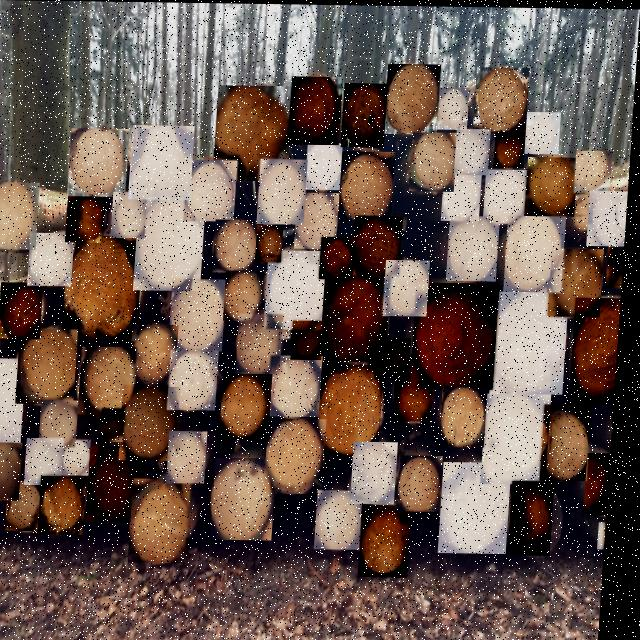wood-log: (415, 281, 504, 388), (66, 235, 147, 341), (495, 290, 573, 393), (215, 85, 295, 181), (316, 363, 389, 456), (137, 197, 209, 291), (445, 460, 518, 552), (487, 392, 557, 483), (324, 274, 395, 361), (136, 478, 201, 563), (574, 296, 625, 402), (218, 457, 283, 540), (268, 249, 330, 329), (131, 125, 197, 199), (507, 214, 569, 291), (270, 417, 332, 493), (21, 328, 83, 404), (93, 445, 153, 522), (125, 386, 186, 460), (70, 128, 131, 197), (173, 278, 230, 351), (83, 347, 142, 417), (385, 63, 442, 133), (341, 150, 397, 221), (546, 403, 597, 479), (366, 504, 419, 576), (474, 66, 531, 132), (552, 247, 607, 315), (290, 75, 344, 144), (450, 214, 503, 280), (226, 373, 278, 440), (272, 354, 328, 416), (515, 479, 561, 554), (259, 158, 310, 224), (187, 159, 240, 221), (528, 155, 581, 215), (173, 349, 224, 410), (355, 215, 406, 275), (343, 82, 389, 147), (445, 384, 493, 446), (357, 440, 404, 503), (134, 324, 183, 384), (322, 489, 370, 549), (241, 313, 288, 374), (0, 182, 42, 250), (411, 131, 459, 190), (45, 476, 93, 534), (0, 358, 31, 445), (387, 259, 434, 315), (403, 454, 449, 511), (2, 282, 47, 339), (297, 192, 342, 248), (31, 233, 78, 286), (486, 168, 531, 222), (216, 219, 261, 272), (590, 189, 630, 244), (173, 431, 214, 483), (12, 480, 52, 531), (398, 371, 439, 420), (227, 270, 267, 320), (444, 171, 484, 220), (69, 196, 109, 242), (45, 400, 84, 447), (31, 438, 70, 485), (307, 142, 345, 189), (0, 442, 29, 501), (457, 127, 493, 174), (114, 191, 150, 238), (590, 451, 617, 513), (577, 149, 615, 192), (379, 337, 416, 379), (526, 110, 562, 153), (323, 236, 359, 278), (439, 86, 471, 128), (295, 320, 328, 359), (609, 225, 629, 286), (496, 130, 528, 166), (68, 439, 97, 475), (259, 224, 286, 261), (106, 409, 131, 442), (605, 520, 613, 547), (0, 312, 3, 366), (0, 494, 2, 556)
